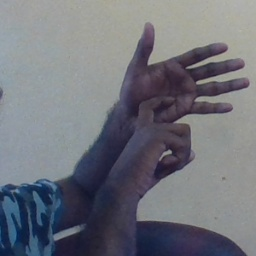R: (108, 21, 253, 173)
